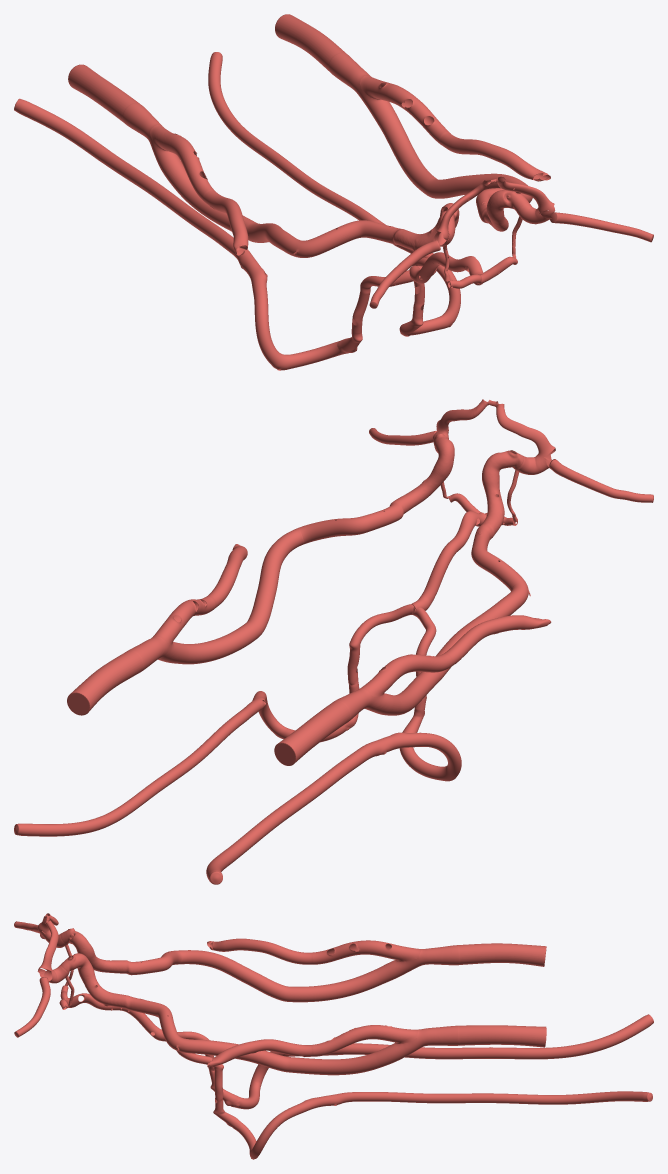
3 renders of one model, top to bottom at view 1: azimuth 30°, elevation 25°; view 2: azimuth 150°, elevation 25°; view 3: azimuth 270°, elevation 25°, orthographic. The views are drawn at different scales.
Visible parts, largest first — view 1: ICA cervical right, External carotid, Vertebral V2 left, ICA cervical left, External carotid left, Common carotid right, Common carotid left, Vertebral V2 right, Vertebral V3 left, ICA petrous left, Vertebral V1 left, Basilar (+10 smaller); view 2: ICA cervical right, Vertebral V2 left, External carotid left, ICA cervical left, Common carotid right, Common carotid left, Vertebral V2 right, External carotid, ICA petrous right, Vertebral V3 left, Basilar, ICA cavernous right (+9 smaller); view 3: ICA cervical left, ICA cervical right, Vertebral V2 right, External carotid left, External carotid, Common carotid right, Common carotid left, Vertebral V2 left, Vertebral V1 left, ICA petrous right, Vertebral V3 right, ICA cavernous right (+9 smaller).
Boxes of the visible parts, box(x1,y1,x2,y2) form: ICA cervical right: box(353, 73, 527, 198); External carotid: box(360, 75, 550, 181); Vertebral V2 left: box(99, 149, 267, 294); ICA cervical left: box(147, 125, 301, 257); External carotid left: box(150, 125, 248, 255); Common carotid right: box(275, 14, 368, 89); Common carotid left: box(68, 64, 161, 138); Vertebral V2 right: box(226, 118, 413, 253); Vertebral V3 left: box(253, 290, 357, 370); ICA petrous left: box(297, 220, 400, 257); Vertebral V1 left: box(14, 98, 108, 161); Basilar: box(409, 252, 483, 285); ICA cervical right: box(151, 529, 302, 664); Vertebral V2 left: box(228, 732, 427, 858); External carotid left: box(360, 615, 551, 696); ICA cervical left: box(360, 584, 530, 715); Common carotid right: box(67, 638, 164, 715); Common carotid left: box(274, 688, 369, 765); Vertebral V2 right: box(104, 692, 265, 826); External carotid: box(153, 544, 247, 644); ICA petrous right: box(295, 503, 403, 544); Vertebral V3 left: box(399, 725, 461, 781); Basilar: box(411, 511, 486, 610); ICA cavernous right: box(390, 442, 454, 514); ICA cervical left: box(179, 949, 424, 1002); ICA cervical right: box(175, 1029, 424, 1075); Vertebral V2 right: box(288, 1092, 567, 1116); External carotid left: box(207, 938, 421, 964); External carotid: box(207, 1025, 418, 1066); Common carotid right: box(421, 1025, 546, 1047); Common carotid left: box(421, 943, 546, 966); Vertebral V2 left: box(288, 1043, 568, 1059); Vertebral V1 left: box(567, 1014, 653, 1057); ICA petrous right: box(128, 995, 180, 1049); Vertebral V3 right: box(225, 1109, 292, 1159); ICA cavernous right: box(71, 953, 128, 1009).
Size of the model in its own units: 94.59 by 76.25 by 208.
